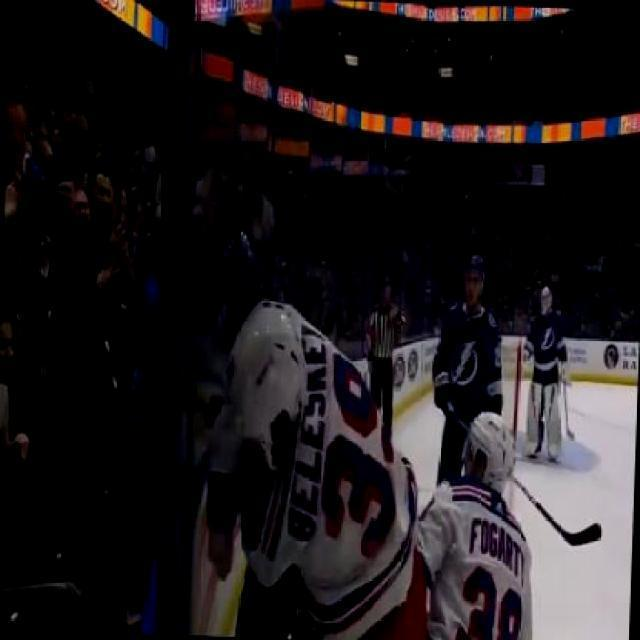fight: (200, 296, 429, 638)
